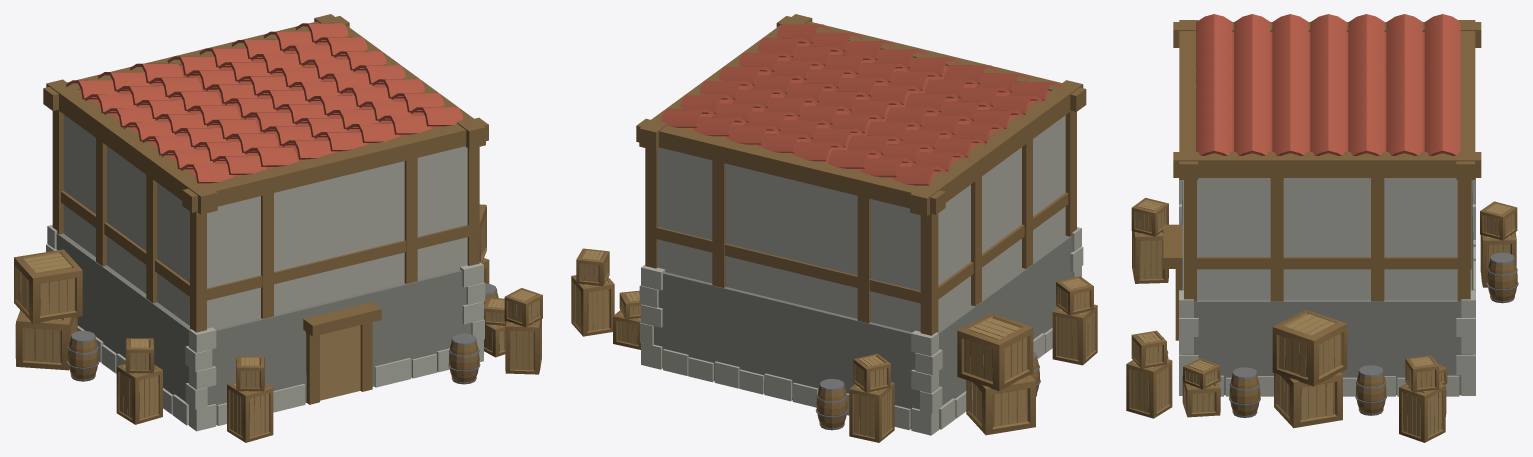
Rendered from storageh_lev2.glb.
3 views of the same model, side by side, from view 1: azimuth 30°, elevation 25°; view 2: azimuth 150°, elevation 25°; view 3: azimuth 270°, elevation 25° (orthographic).
Parts seen in each view (by area): view 1: Storage_SecondAge_Level2; view 2: Storage_SecondAge_Level2; view 3: Storage_SecondAge_Level2.
Part boxes in pixels (left/top/right/bottom): Storage_SecondAge_Level2: left=14, top=14, right=542, bottom=442; Storage_SecondAge_Level2: left=571, top=14, right=1097, bottom=442; Storage_SecondAge_Level2: left=1126, top=14, right=1518, bottom=442.
Size of the model in its own units: 58.91 by 31.83 by 44.72.
